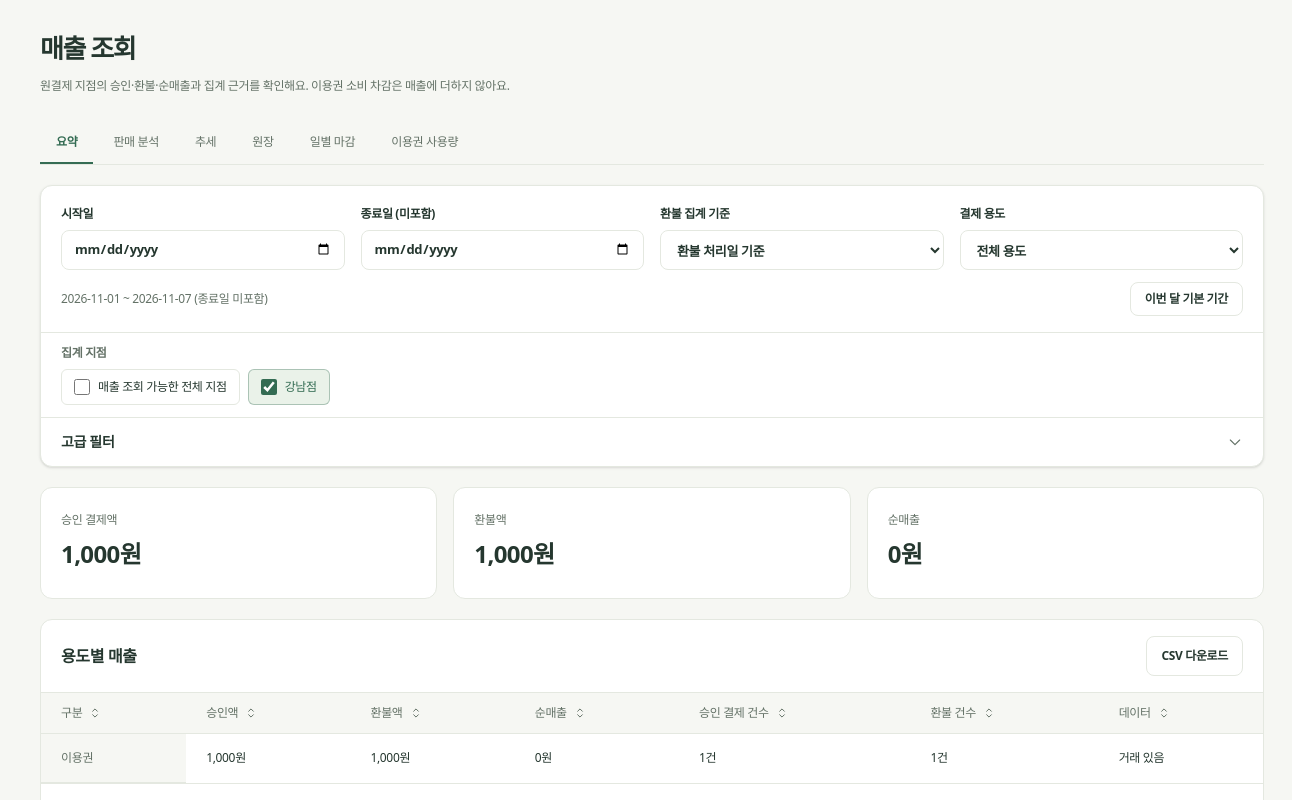
Test: keeps branch, purpose and refund conditions in URL and resets ledger page on filter changes
Expected: the heading "용도별 매출" is shown, 61,644 -> 137,668
Select "사물함" in the dropdown labelled "결제 용도" at (1101, 250), box 960,230 -> 1243,270
(page scrolled)
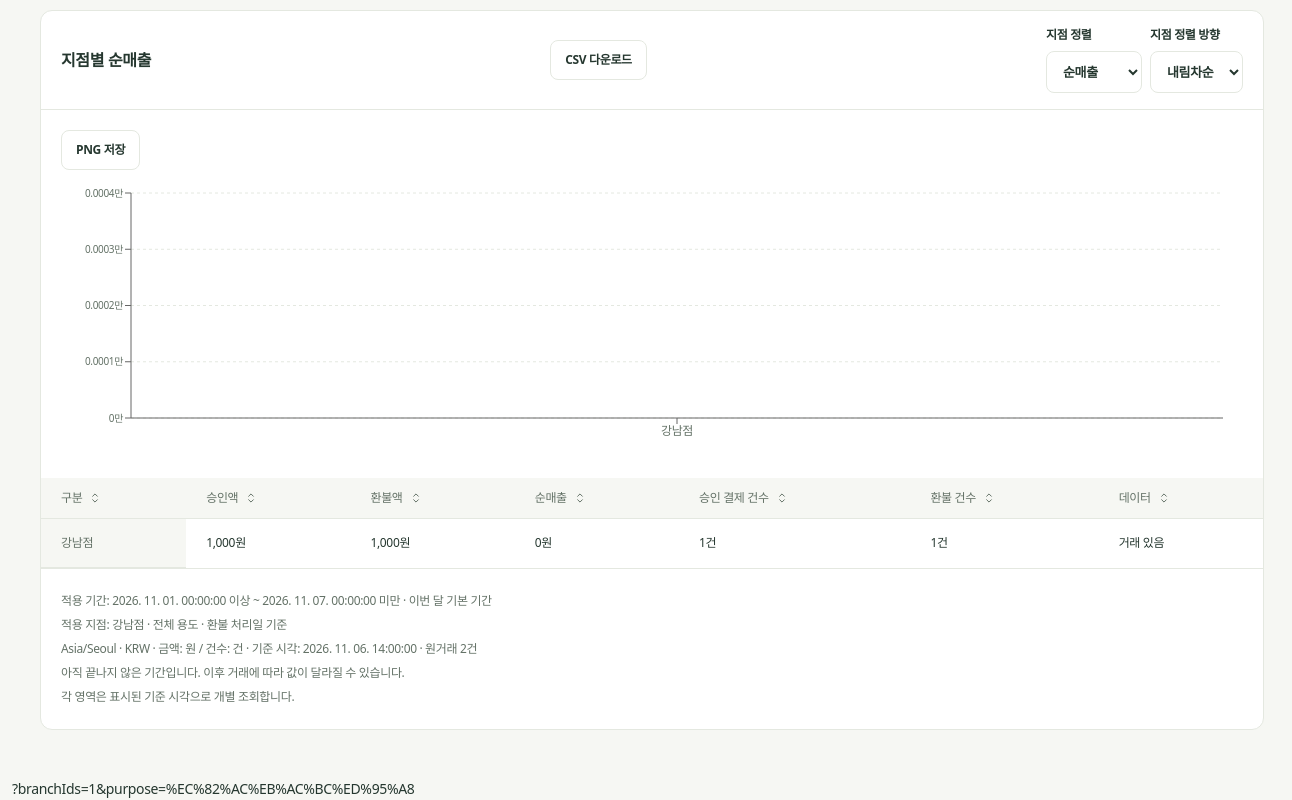
Expected: the text named "주소 조건" does not show "ledgerPage", 12,779 -> 414,798
Result: the text named "주소 조건" shows "purpose=" at 12,779 -> 414,798
